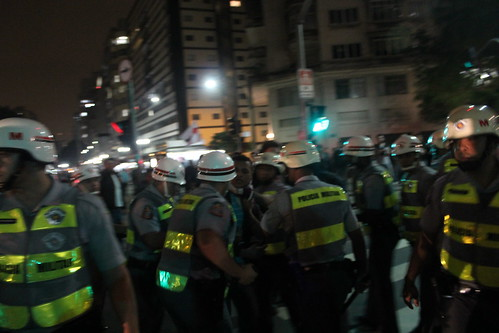building: (285, 1, 499, 147), (113, 1, 274, 138)
policeman: (1, 129, 111, 333), (271, 147, 364, 320), (159, 158, 245, 319), (445, 109, 499, 333), (343, 138, 398, 315), (117, 152, 189, 270), (391, 138, 434, 264)
sky: (1, 1, 108, 126)
